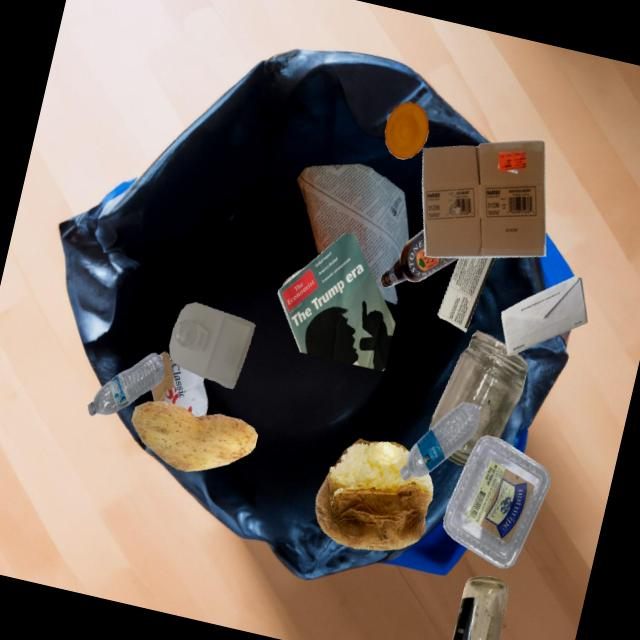biowaste: (315, 438, 433, 550), (131, 401, 257, 471)
cardboard: (421, 140, 545, 258), (151, 351, 207, 416)
glass: (428, 330, 529, 466), (380, 229, 458, 288), (451, 576, 507, 640), (281, 267, 304, 286)
paper: (277, 233, 395, 371), (296, 163, 409, 304), (501, 276, 587, 356), (437, 257, 495, 332)
plastic: (443, 435, 550, 568), (169, 302, 255, 389), (399, 401, 479, 481), (87, 353, 164, 415), (384, 102, 428, 159)
